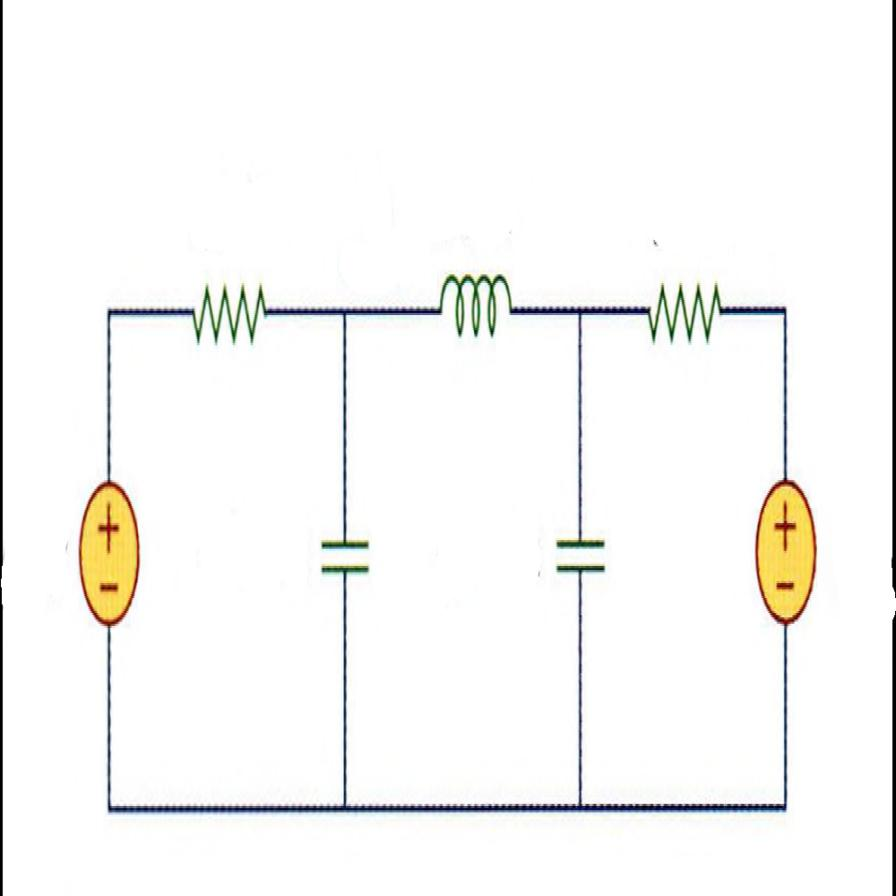C2: (536, 494, 624, 632), (310, 503, 384, 610)
L1: (424, 252, 522, 374)
R1: (178, 246, 284, 378), (636, 238, 736, 375)
V1: (736, 465, 826, 646), (74, 463, 149, 644)
